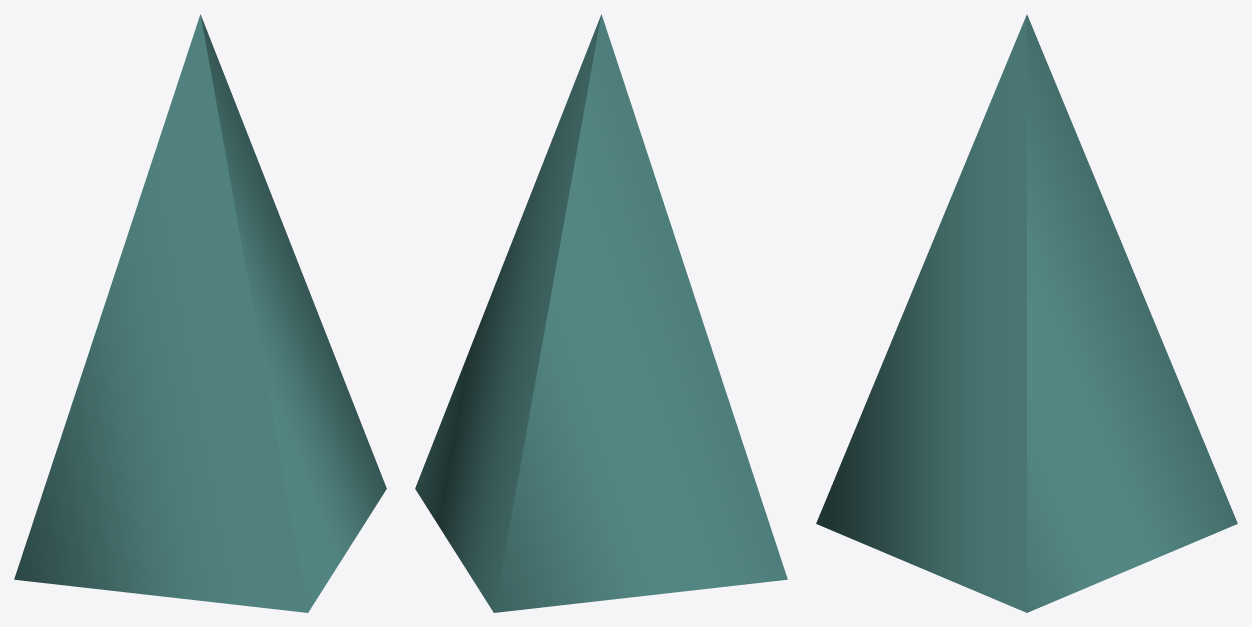
Rendered from wp-pyramide-a-base-carree.glb.
The picture shows the model from 3 angles, left to right: view 1: azimuth 30°, elevation 25°; view 2: azimuth 150°, elevation 25°; view 3: azimuth 270°, elevation 25°; orthographic projection. The views are drawn at different scales.
Visible parts, largest first — view 1: wp-pyramide-a-base-carree; view 2: wp-pyramide-a-base-carree; view 3: wp-pyramide-a-base-carree.
Part boxes in pixels (box(x1,y1,x2,y2)): wp-pyramide-a-base-carree: box(14, 14, 386, 612); wp-pyramide-a-base-carree: box(415, 14, 787, 612); wp-pyramide-a-base-carree: box(816, 14, 1237, 612).
Bounding box in the file's own units: 0.3 × 0.4 × 0.3.
